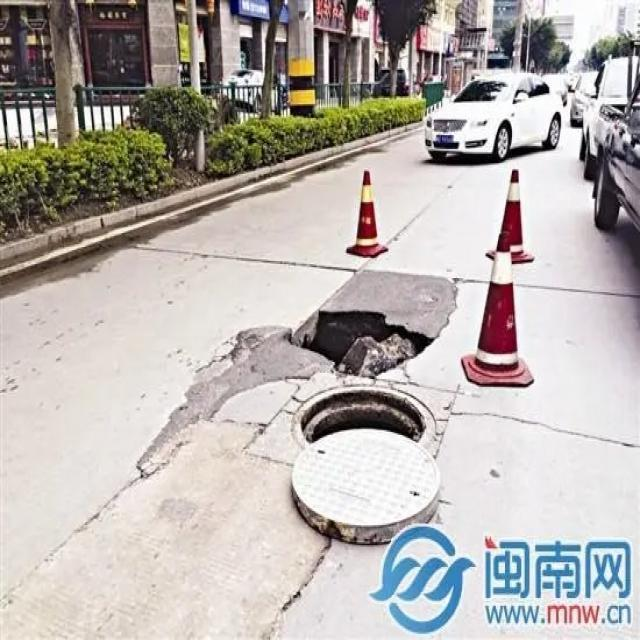Buraco: (279, 308, 437, 382)
